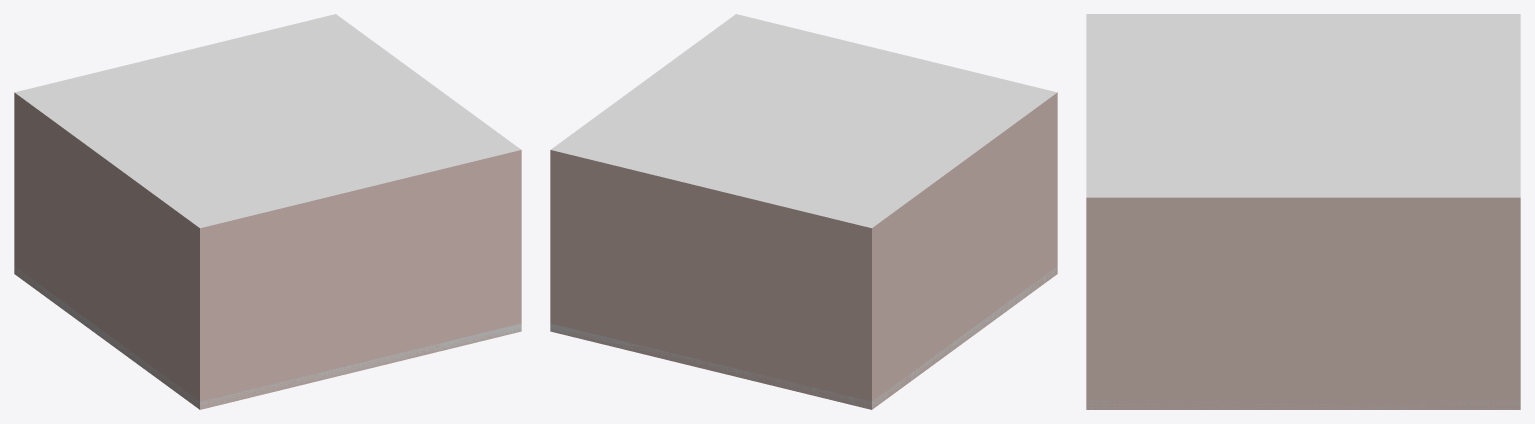
Rendered from Ground.fbx.
3 views of the same model, side by side, from view 1: azimuth 30°, elevation 25°; view 2: azimuth 150°, elevation 25°; view 3: azimuth 270°, elevation 25° (orthographic). The views are drawn at different scales.
Parts seen in each view (by area): view 1: Floor; view 2: Floor; view 3: Floor.
Part boxes in pixels (x1=…): Floor: x1=14, y1=14, x2=521, y2=409; Floor: x1=550, y1=14, x2=1057, y2=409; Floor: x1=1086, y1=14, x2=1520, y2=409.
Bounding box in the file's own units: 5 × 2.7 × 5.
